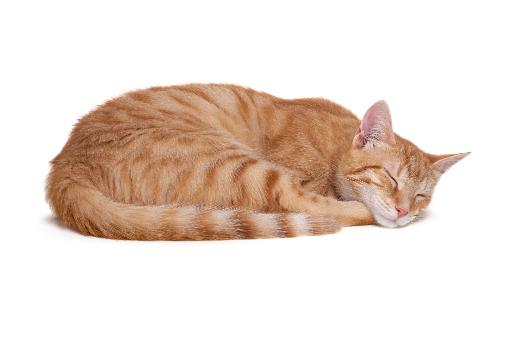cat_sleeping: (46, 84, 470, 240)
